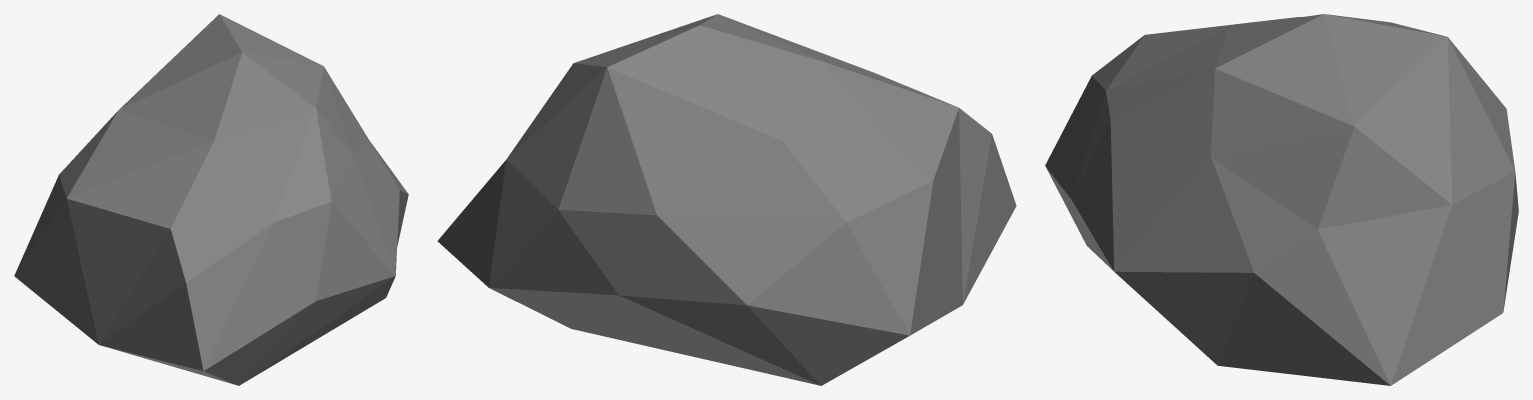
File: stone02.gltf
3 views of the same model, side by side, from view 1: azimuth 30°, elevation 25°; view 2: azimuth 150°, elevation 25°; view 3: azimuth 270°, elevation 25° (orthographic). The views are drawn at different scales.
Visible parts, largest first — view 1: Icosphere; view 2: Icosphere; view 3: Icosphere.
Part boxes in pixels (bbox=[...]): Icosphere: bbox=[14, 14, 408, 385]; Icosphere: bbox=[437, 14, 1016, 385]; Icosphere: bbox=[1045, 14, 1518, 385].
Bounding box in the file's own units: 0.7224 × 0.4463 × 0.6107.
1 material, 1 textured.
